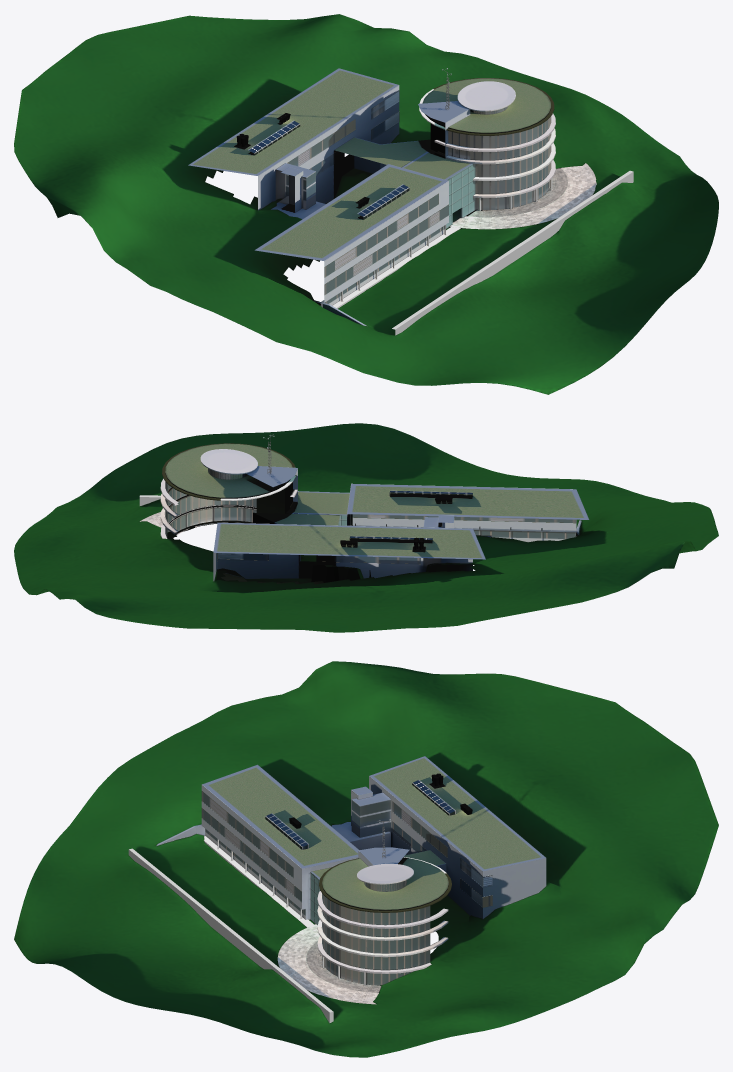
Rendered from institute_3d.glb.
3 renders of one model, top to bottom at view 1: azimuth 30°, elevation 25°; view 2: azimuth 150°, elevation 25°; view 3: azimuth 270°, elevation 25°, orthographic.
Parts seen in each view (by area): view 1: Ground.001, front_top_windows.002, outer_btickpath_mesh.001, frontWall, innerBricks, underpillars; view 2: Ground.001, front_top_windows.002; view 3: Ground.001, front_top_windows.002, outer_btickpath_mesh.001, frontWall, innerBricks, underpillars.
Boxes of the visible parts, left/top/right/bottom form: Ground.001: left=14, top=14, right=718, bottom=394; front_top_windows.002: left=188, top=68, right=555, bottom=326; outer_btickpath_mesh.001: left=449, top=163, right=596, bottom=229; frontWall: left=392, top=170, right=633, bottom=335; innerBricks: left=466, top=168, right=567, bottom=217; underpillars: left=332, top=227, right=461, bottom=308; Ground.001: left=14, top=423, right=718, bottom=632; front_top_windows.002: left=160, top=443, right=589, bottom=584; Ground.001: left=14, top=661, right=718, bottom=1057; front_top_windows.002: left=156, top=756, right=546, bottom=985; outer_btickpath_mesh.001: left=277, top=924, right=378, bottom=1004; frontWall: left=128, top=848, right=333, bottom=1022; innerBricks: left=306, top=941, right=381, bottom=992; underpillars: left=204, top=835, right=314, bottom=927.
Size of the model in its own units: 153 by 38.54 by 153.
9 materials, 4 textured.
